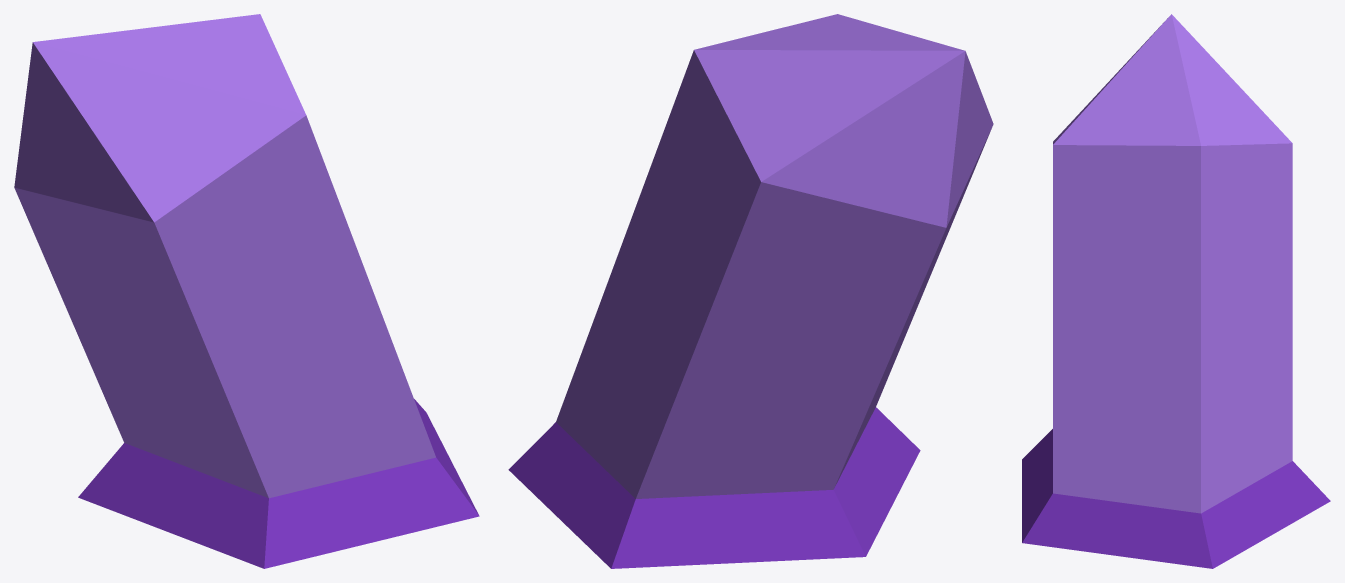
File: crystal_titled_002_grp.fbx
The picture shows the model from 3 angles, left to right: view 1: azimuth 30°, elevation 25°; view 2: azimuth 150°, elevation 25°; view 3: azimuth 270°, elevation 25°; orthographic projection. The views are drawn at different scales.
Parts seen in each view (by area): view 1: crystal_titled_002_grp; view 2: crystal_titled_002_grp; view 3: crystal_titled_002_grp.
Part boxes in pixels (x1=…): crystal_titled_002_grp: x1=14, y1=14, x2=479, y2=568; crystal_titled_002_grp: x1=508, y1=14, x2=993, y2=568; crystal_titled_002_grp: x1=1022, y1=14, x2=1330, y2=568.
Bounding box in the file's own units: 25 × 27.99 × 20.
